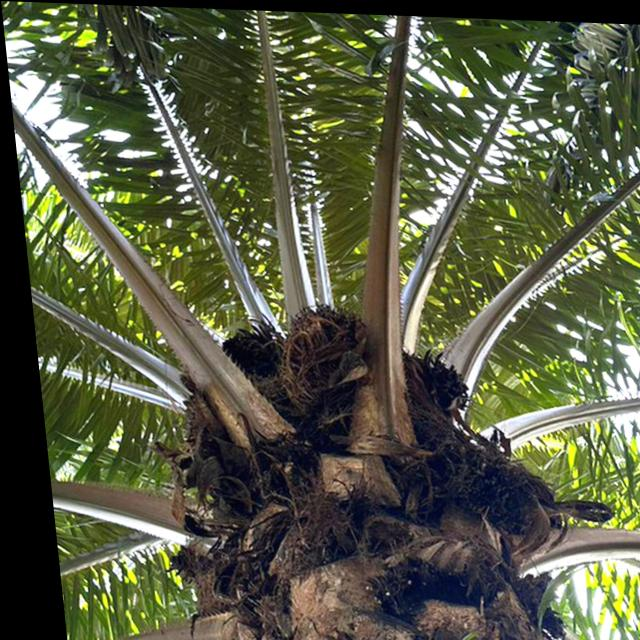ripe: (264, 287, 377, 417)
